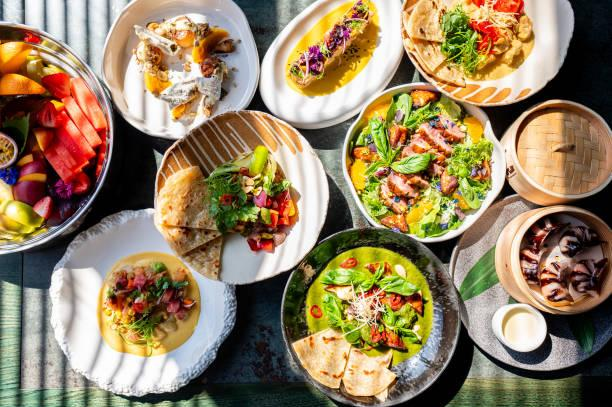Braised Crucian Carp: (50, 207, 236, 398), (156, 107, 331, 288), (282, 227, 457, 405), (0, 18, 116, 253), (344, 82, 502, 241), (101, 1, 258, 142), (399, 0, 570, 108), (258, 0, 396, 129), (494, 204, 611, 315), (499, 100, 609, 204)
